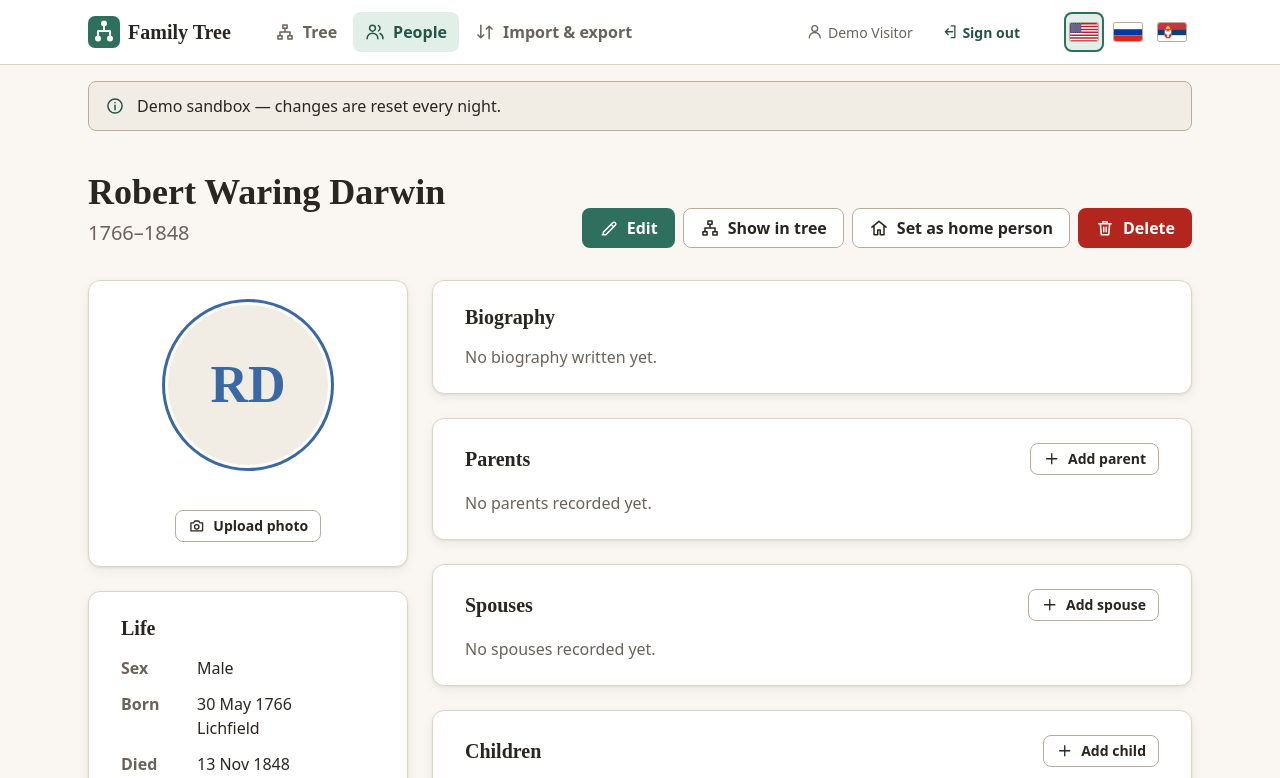
Test case: adding a spouse records a marriage with its wedding date and place
Expected: the element "Spouses" shows "No spouses recorded yet.", [465,638,656,660]
Click the button "Add spouse": [1093, 605] box [1028,589,1159,621]
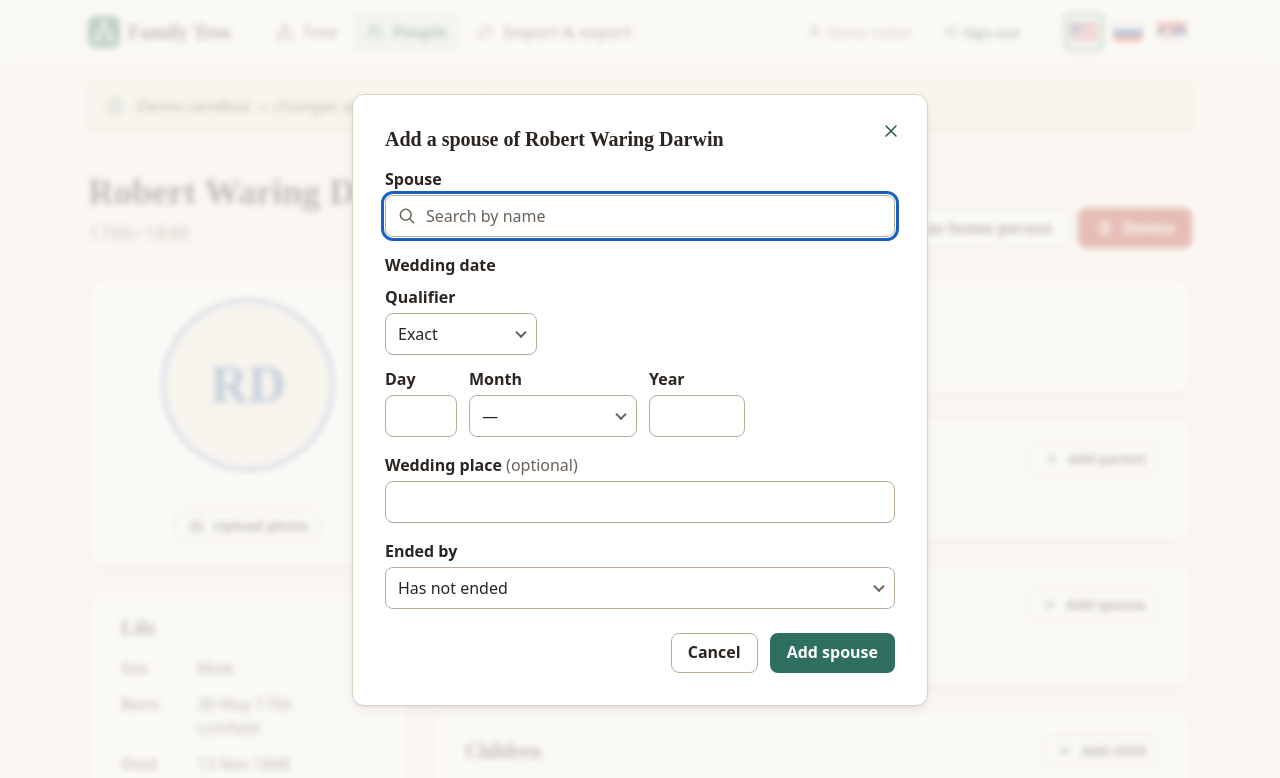
In the dropdown labelled "Spouse": [640, 216] box [385,195,895,237], type "susannah"
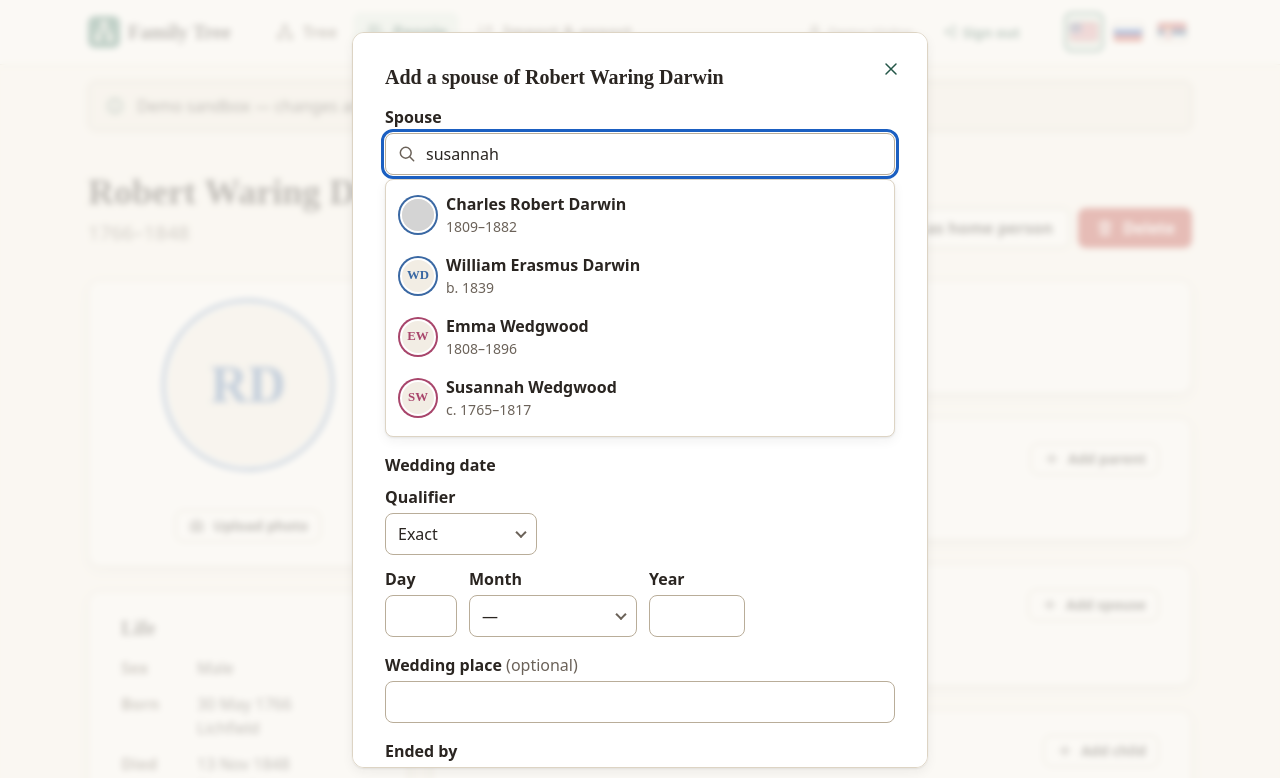
Click the option "SW Susannah Wedgwood c. 1765–1817": [509, 398] box [402,376,617,419]
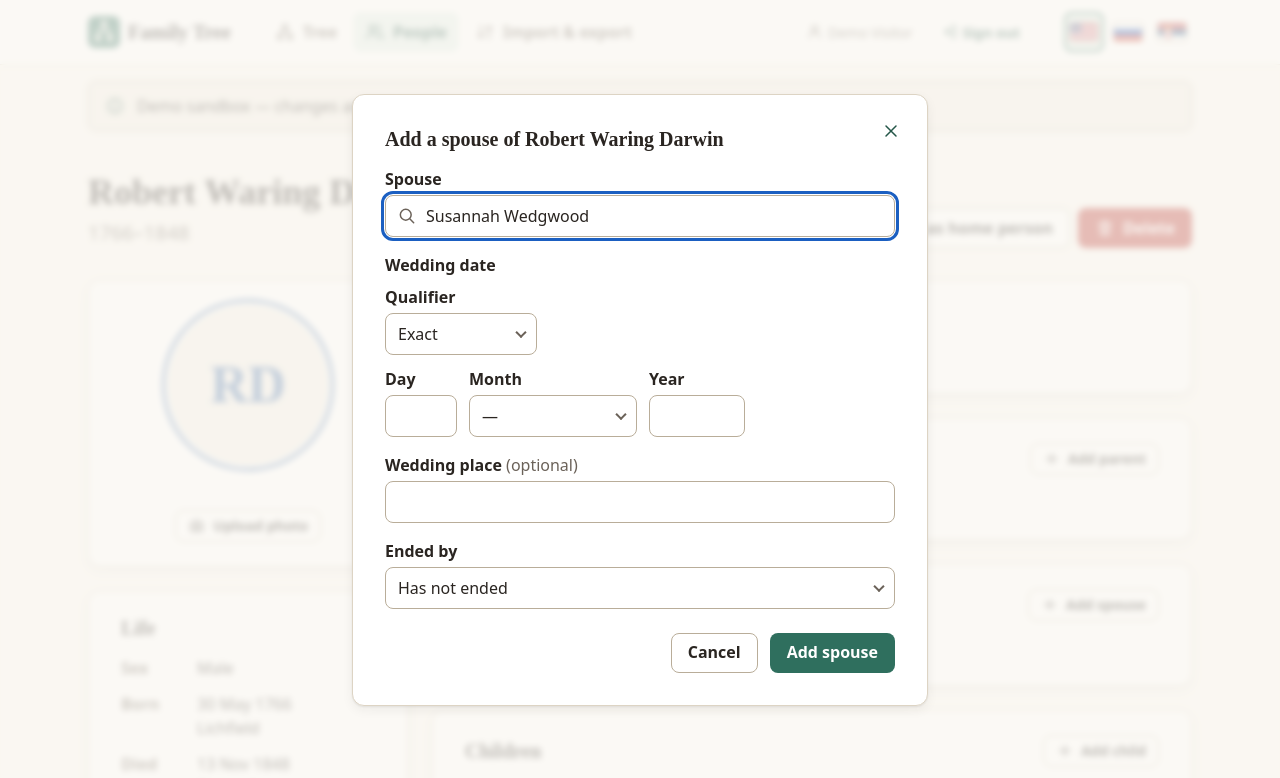
In the field labelled "Year": [697, 416] box [649,395,745,437], type "1796"
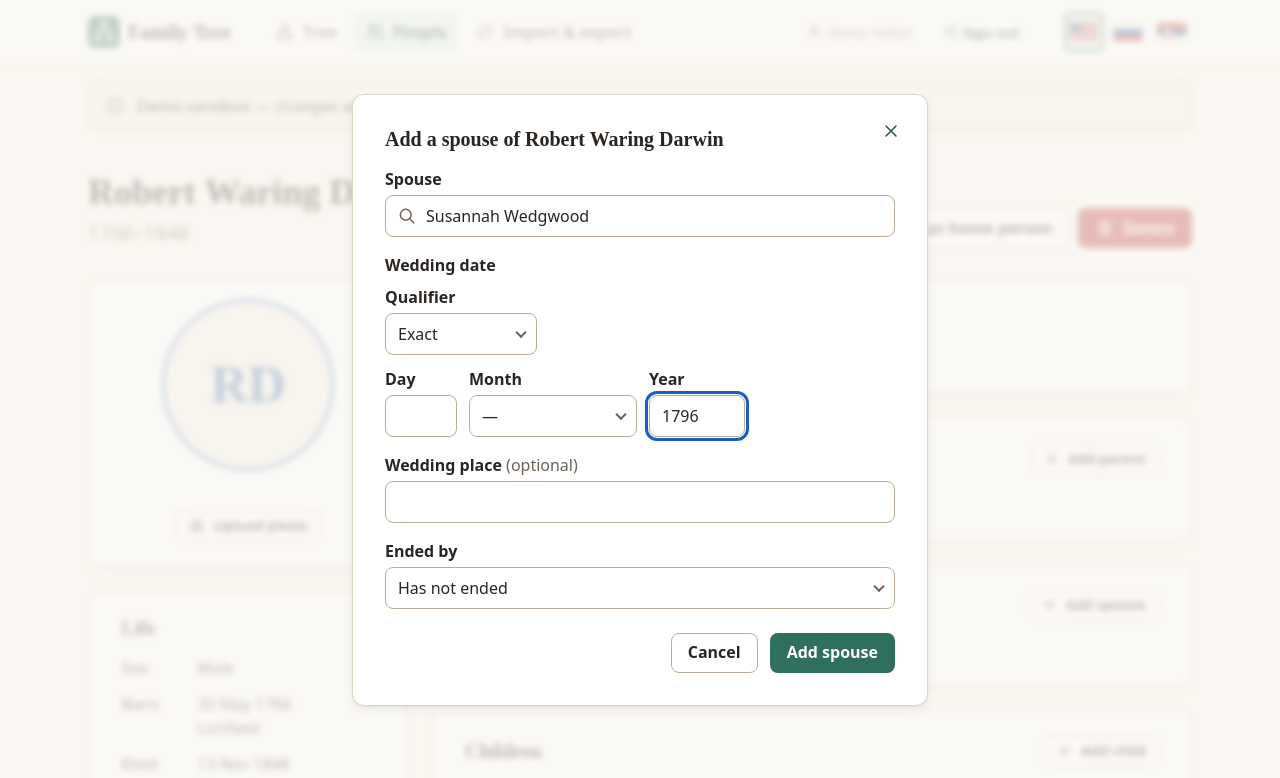
In the field labelled "Wedding place (optional)": [640, 502] box [385,481,895,523], type "Marylebone"
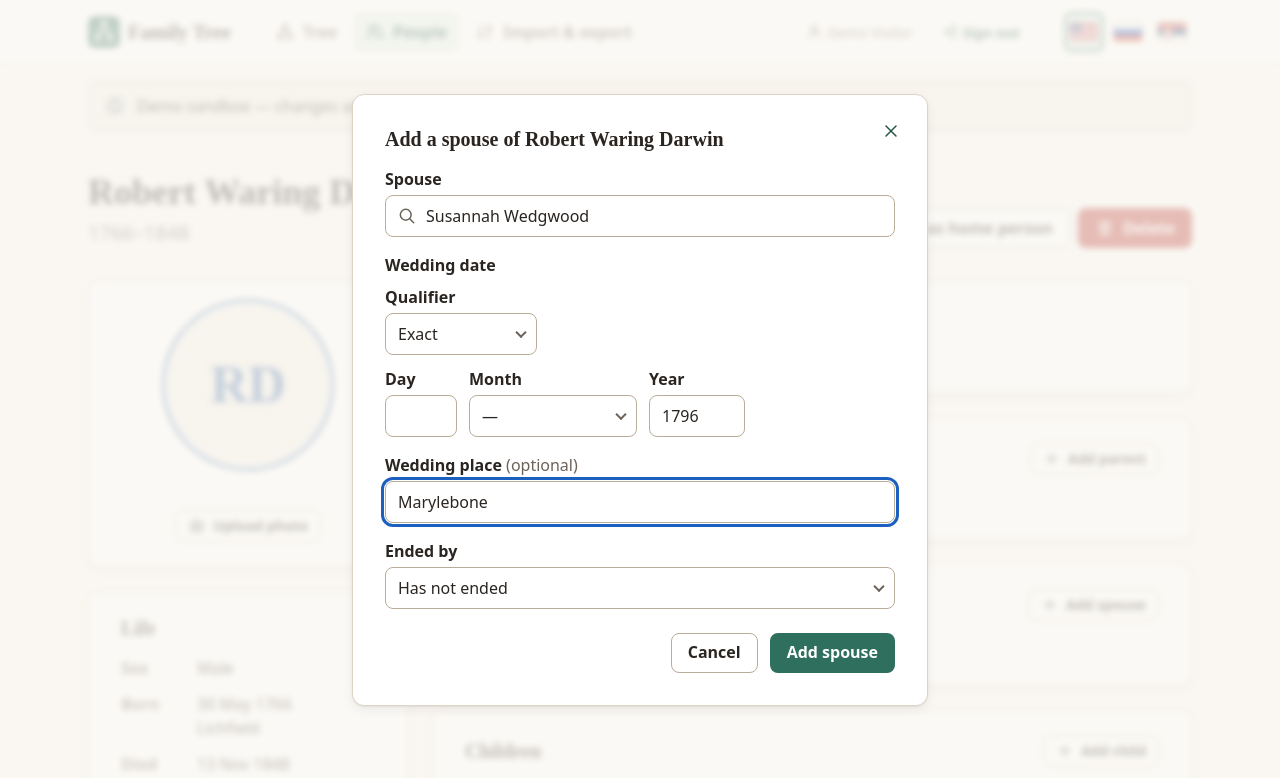
Click the button "Add spouse": [832, 653] box [770,633,895,673]
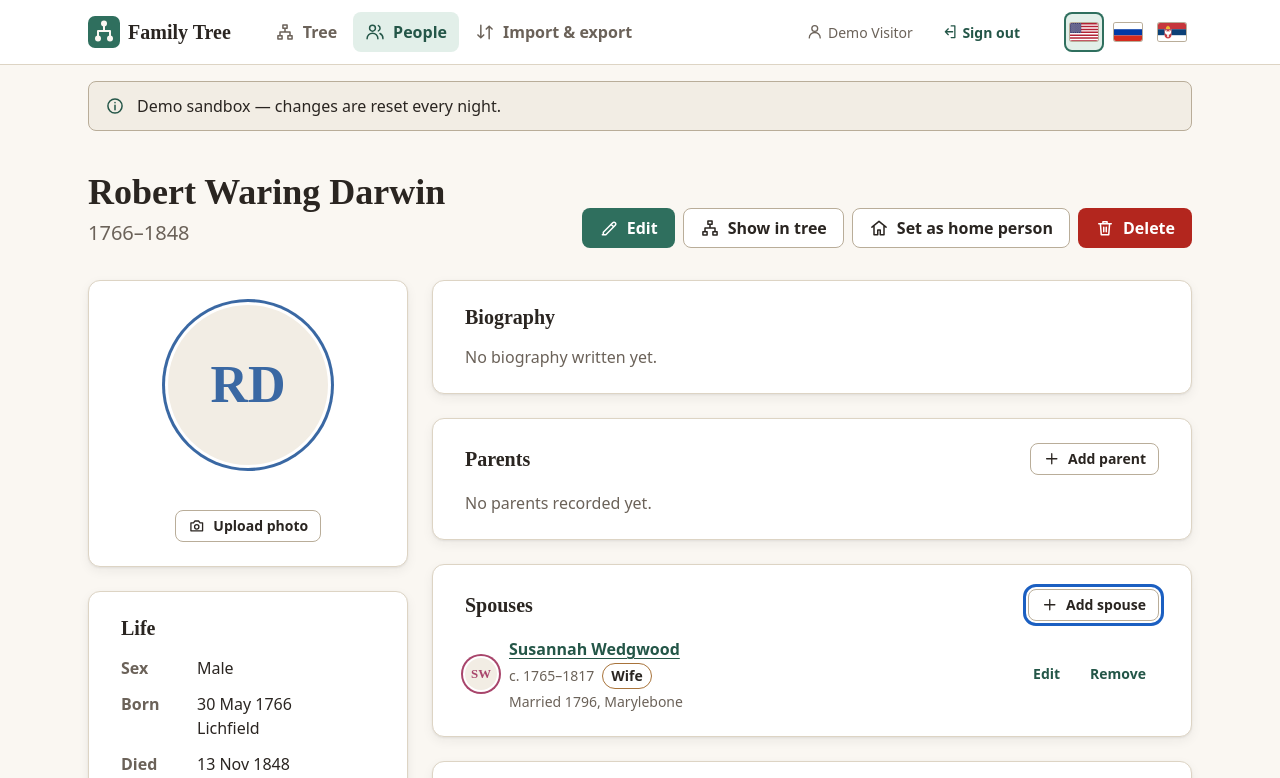
Expected: the text "Married 1796, Marylebone" is shown, [509,692,683,711]
